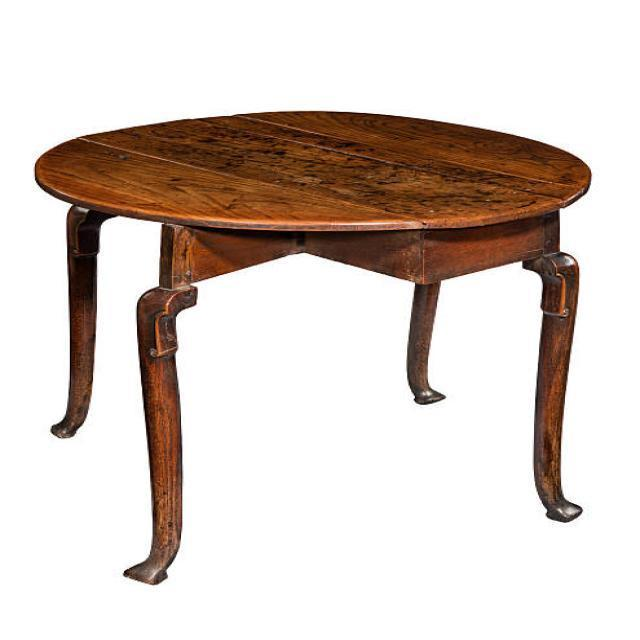table: (34, 108, 592, 584)
